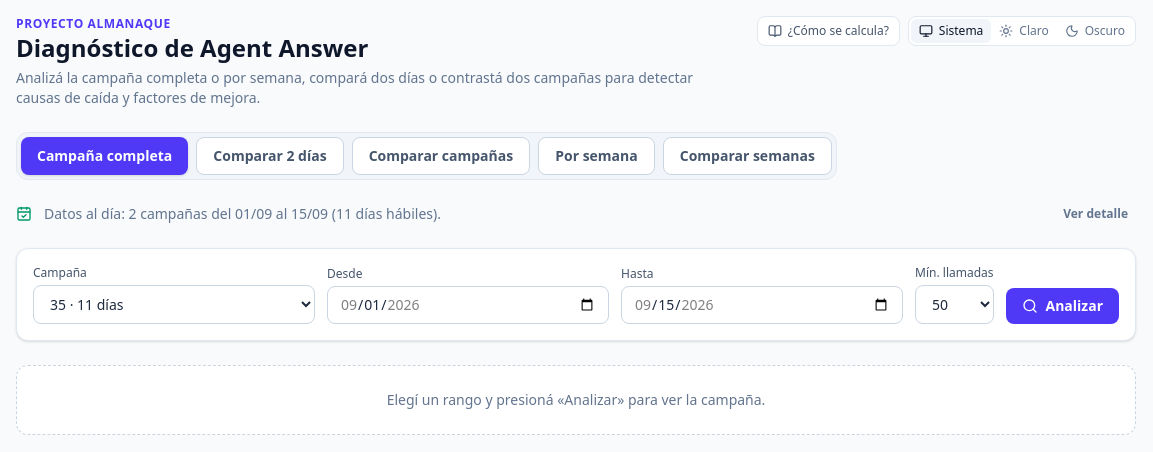
ModeTabs › activa el tab Por semana y muestra su filtro con S37 por defecto
What coordinates should you click on to do the following:
click the tab with test id "tab-week"
I would click on:
 (596, 156)
Its box is [538,137,655,175].
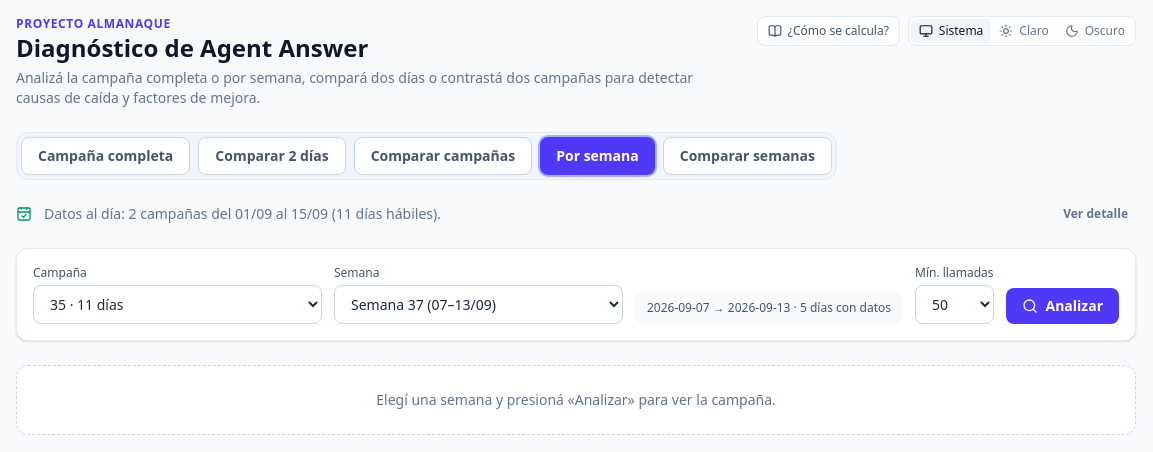
Check: the dropdown labelled "Campaña" shows "35 · 11 días", box [33,285,322,324]
Check: the form with test id "filter-week-bar" is shown, box [16,248,1136,341]
Check: the dropdown labelled "Semana" shows "Semana 37 (07–13/09)", box [334,285,623,324]
